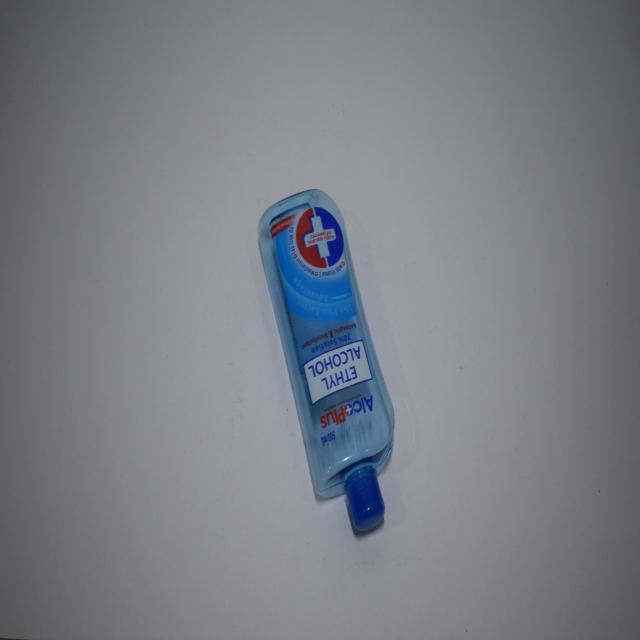empty: (258, 189, 394, 532)
